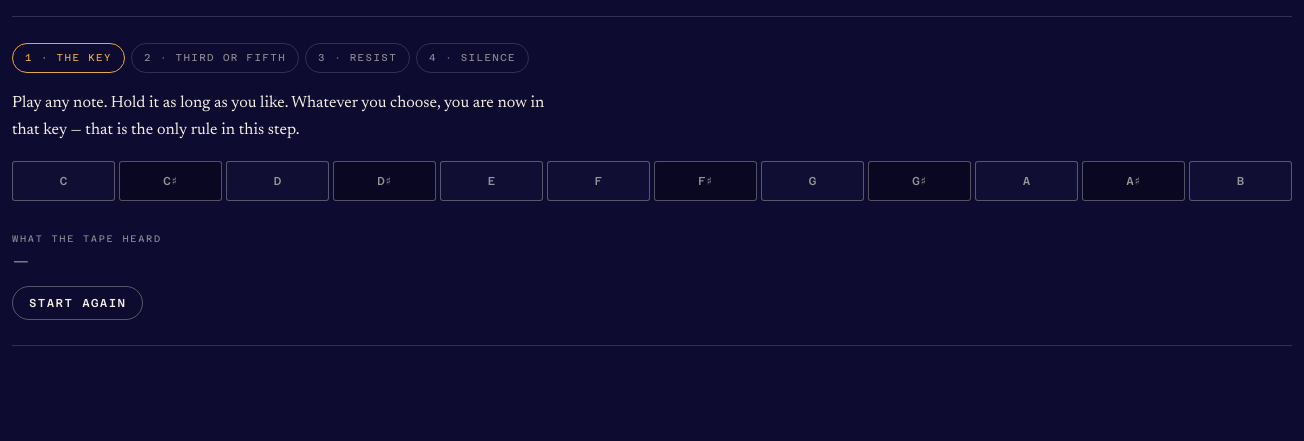
Scenario: ThreeNotes › three notes end in silence: record head lifted, keys disabled, clock running
Press the mouse on the button "A": (1026,181) [975,161,1078,201]
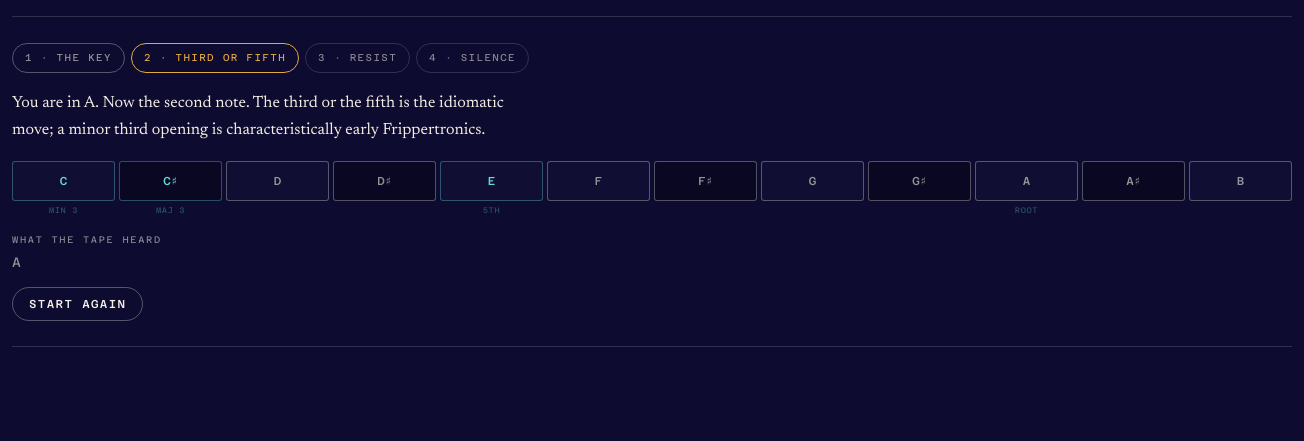
Press the mouse on the button "C": (64,181) [12,161,115,201]
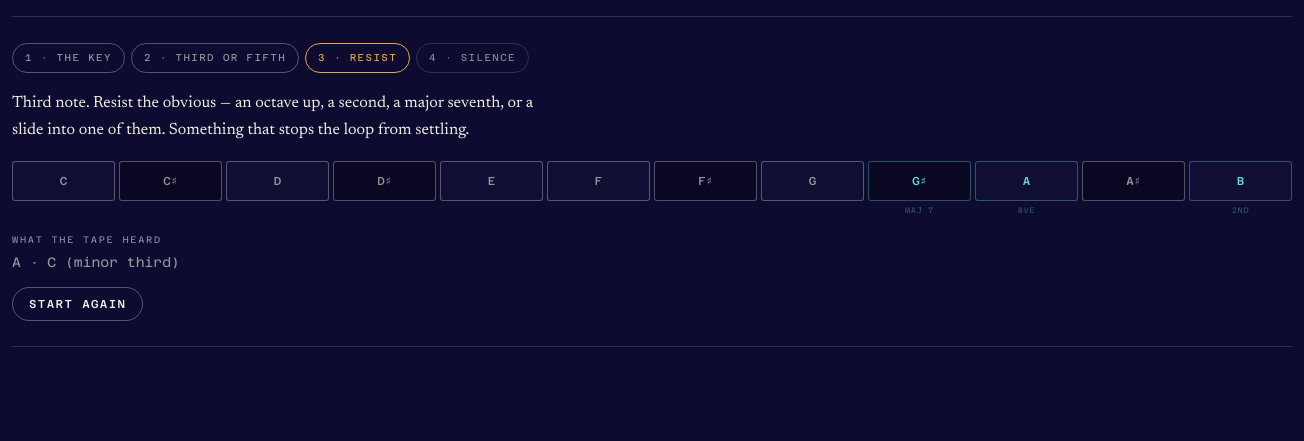
Press the mouse on the button "E": (492,181) [440,161,543,201]
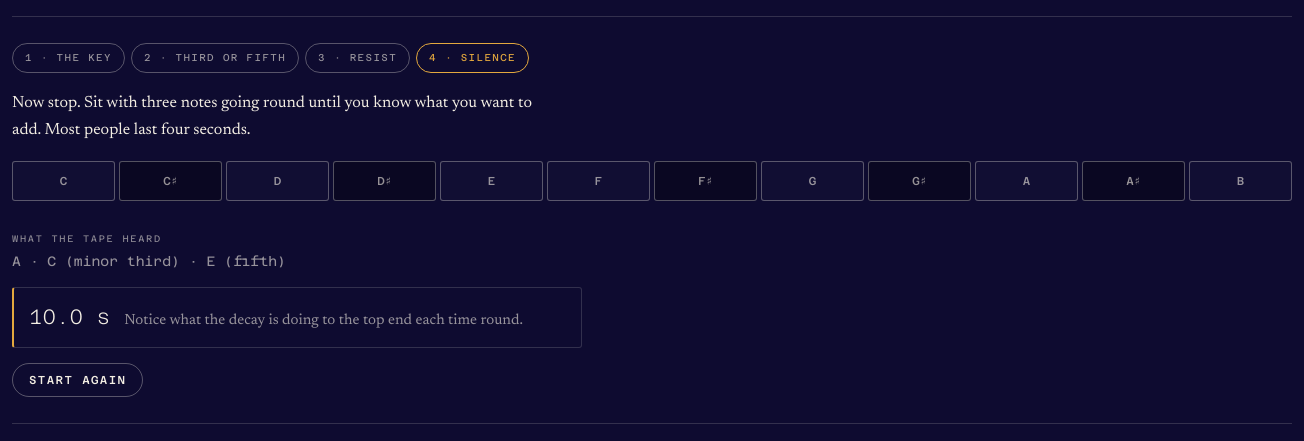
Now the text "Now stop." is shown, box [12,96,532,138]
Now the element showing "What the tape heard A · C (minor third) · E (fifth)" is shown, box [12,233,286,269]
Now the text "decay is doing to the top end" is shown, box [124,313,523,328]
